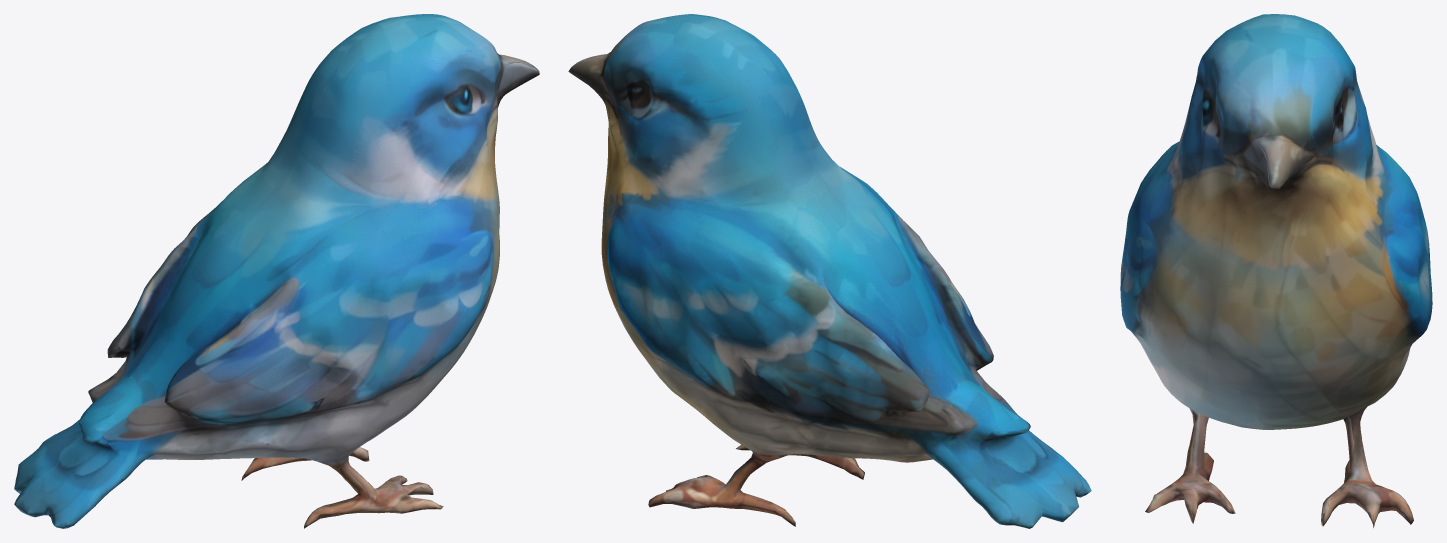
Rendered from a_blue_bird.fbx.
3 renders of one model, left to right at view 1: azimuth 30°, elevation 25°; view 2: azimuth 150°, elevation 25°; view 3: azimuth 270°, elevation 25°, orthographic. The views are drawn at different scales.
Parts seen in each view (by area): view 1: Mesh_0; view 2: Mesh_0; view 3: Mesh_0.
Boxes of the visible parts, bbox=[...] form: Mesh_0: bbox=[14, 14, 539, 528]; Mesh_0: bbox=[568, 14, 1091, 528]; Mesh_0: bbox=[1120, 14, 1432, 527].
Size of the model in its own units: 120 by 101 by 55.52.
1 material, 1 textured.
